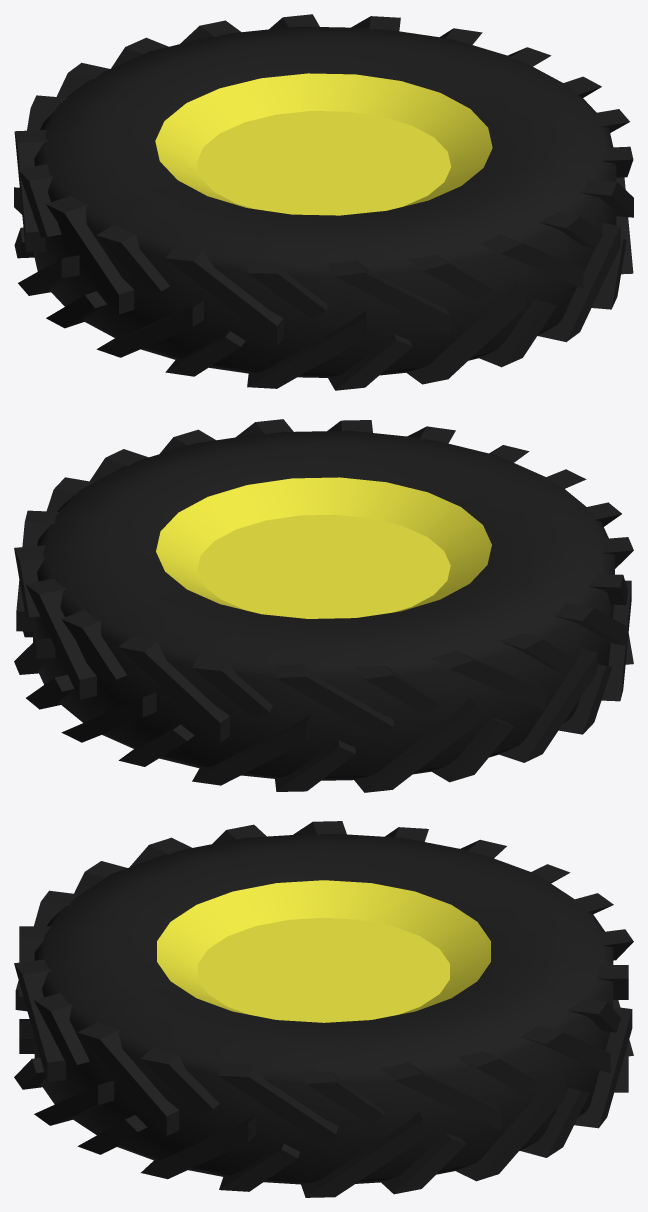
Rendered from front_tire.obj.
The picture shows the model from 3 angles, top to bottom: view 1: azimuth 30°, elevation 25°; view 2: azimuth 150°, elevation 25°; view 3: azimuth 270°, elevation 25°; orthographic projection.
Visible parts, largest first — view 1: tire, rims; view 2: tire, rims; view 3: tire, rims.
Part boxes in pixels (<box>): tire: <box>14,14,633,390</box>; rims: <box>155,73,492,215</box>; tire: <box>14,419,633,792</box>; rims: <box>156,477,491,618</box>; tire: <box>14,821,633,1197</box>; rims: <box>157,880,490,1022</box>.
Bounding box in the file's own units: 1.13 × 0.2634 × 1.13.
